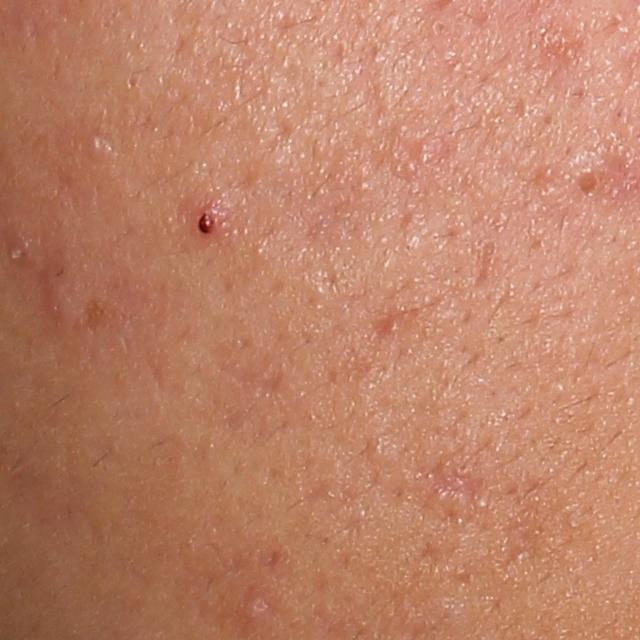atrophic_scar: (484, 481, 600, 589), (411, 459, 488, 511), (473, 236, 497, 291), (365, 309, 397, 348)
comedo: (575, 170, 603, 201), (87, 135, 109, 159), (427, 15, 448, 38), (538, 164, 556, 182)
papule: (185, 195, 238, 251), (240, 592, 271, 628)
